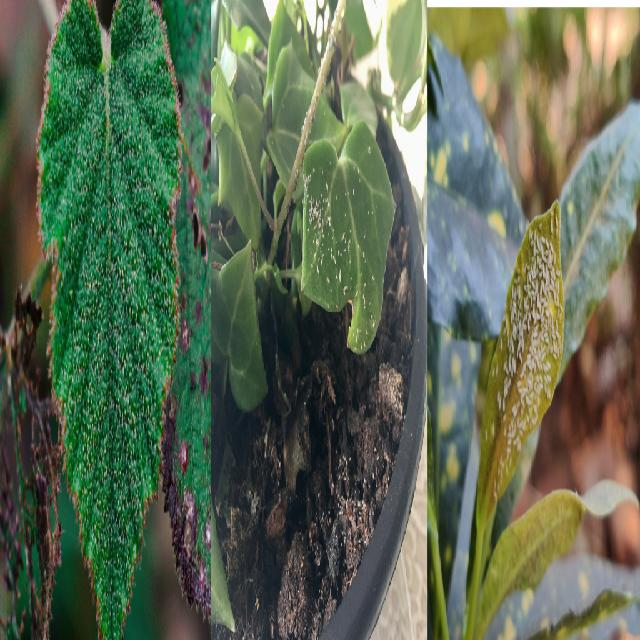Thrip-Group-: (484, 180, 572, 493), (292, 148, 378, 312)
